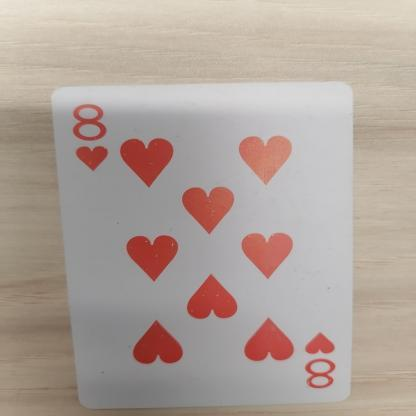8H: (67, 98, 120, 183), (292, 324, 356, 394)
